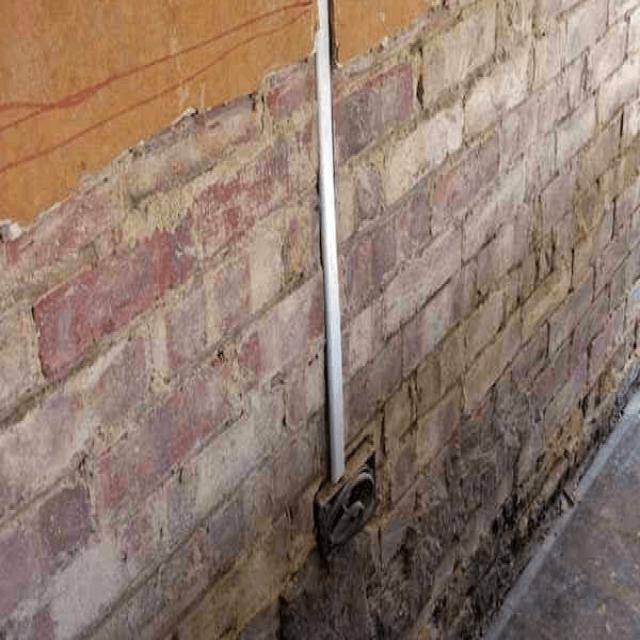Spalling: (0, 0, 639, 639)
dampness: (385, 174, 610, 520)
efflorescence: (113, 101, 307, 250), (159, 531, 319, 636)
